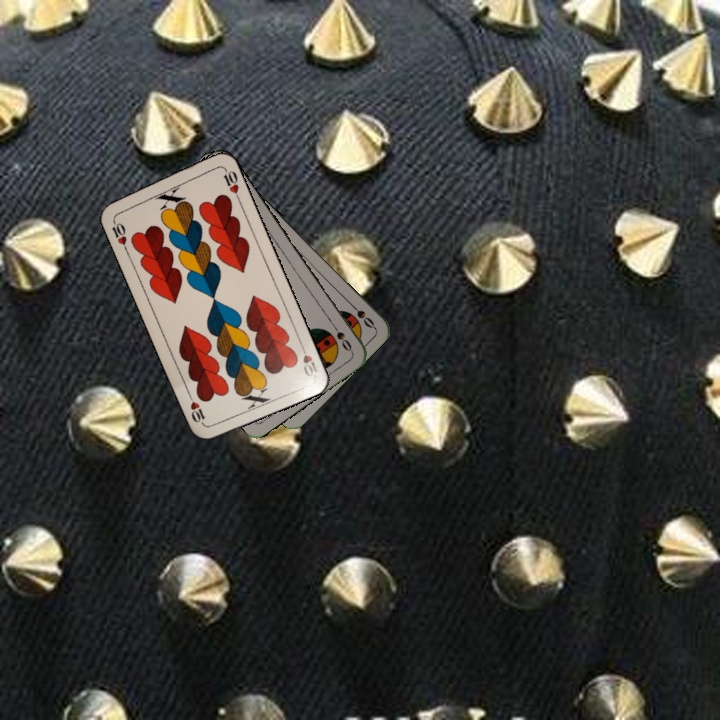H10: (296, 340, 321, 380), (108, 215, 130, 254)
SO: (345, 298, 377, 331), (327, 318, 355, 354)
